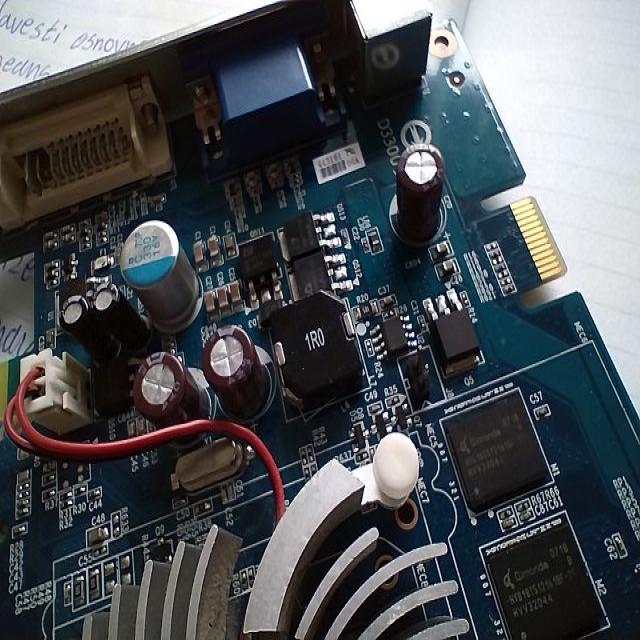capacitor: (226, 280, 247, 308), (193, 237, 206, 273), (202, 288, 218, 316), (208, 232, 220, 268), (383, 290, 398, 314)
resistor: (353, 297, 378, 322), (482, 242, 500, 252), (492, 263, 510, 271)
